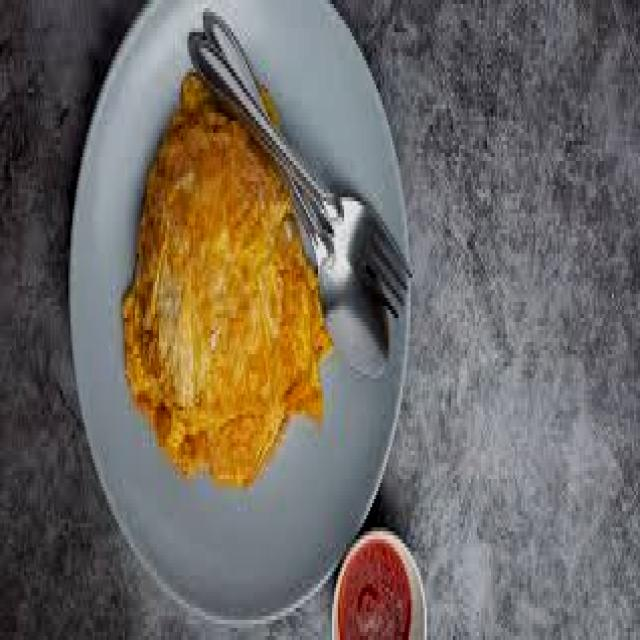telur dadar: (119, 68, 336, 491)
